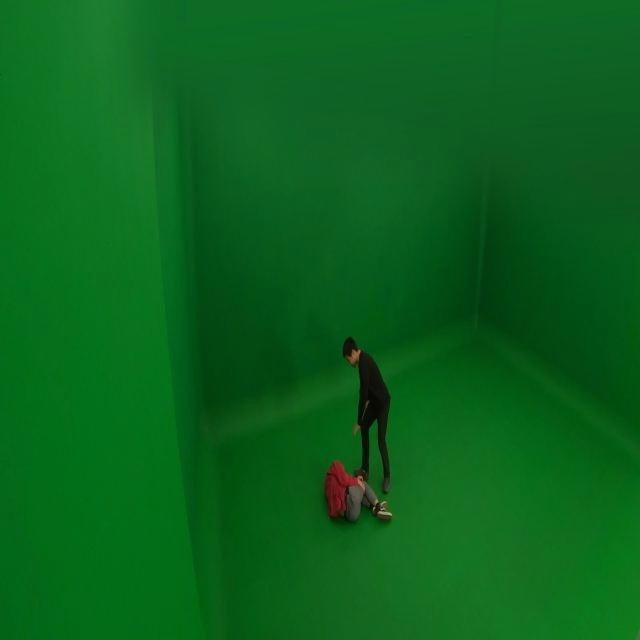fight: (318, 333, 394, 524)
